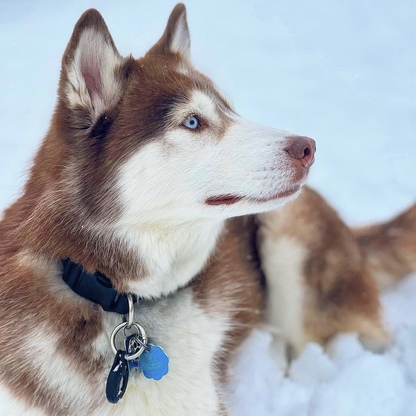husky: (1, 1, 415, 416)
